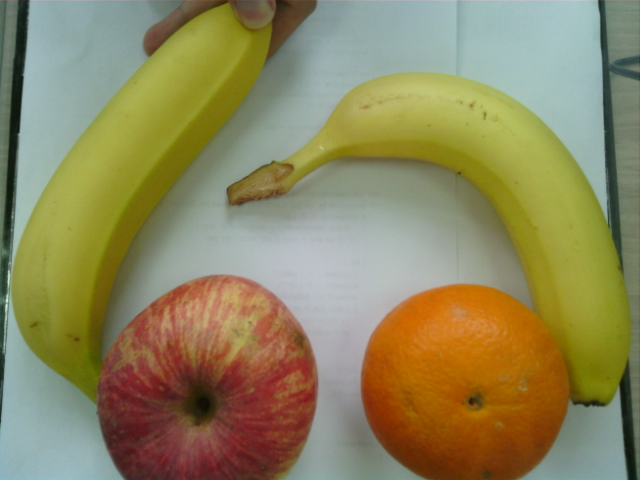normal_apple: (101, 273, 320, 480)
normal_banana: (273, 74, 631, 407), (13, 5, 271, 388)
normal_orange: (364, 283, 572, 480)
